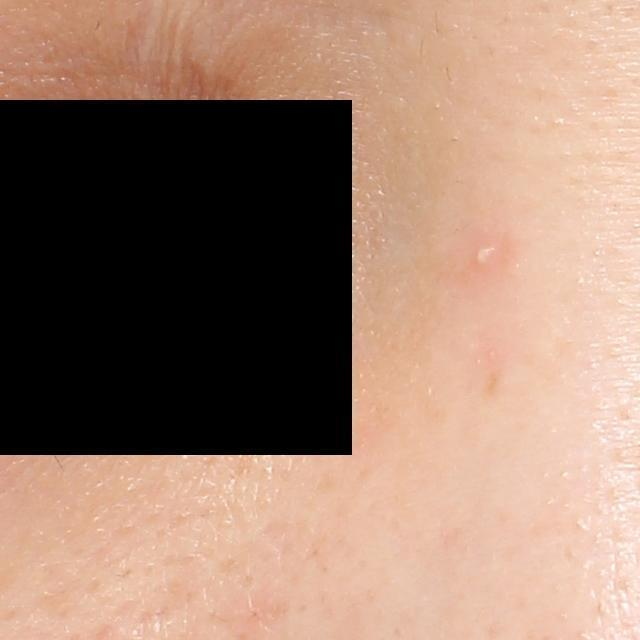pustule: (469, 242, 504, 269)
